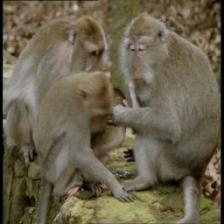monkey: (124, 40, 158, 96), (87, 46, 103, 71)
